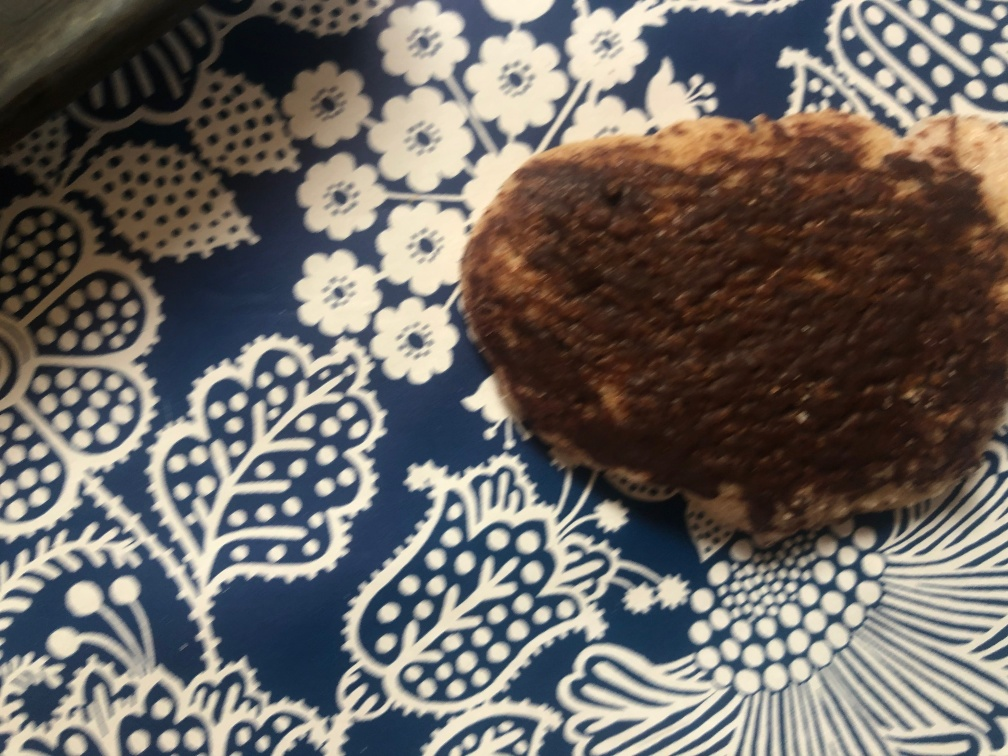weird #1: (455, 94, 1002, 581)
